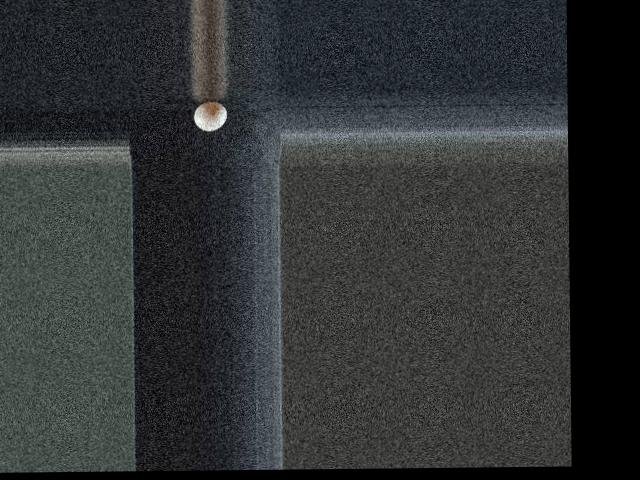egg: (194, 101, 227, 131)
